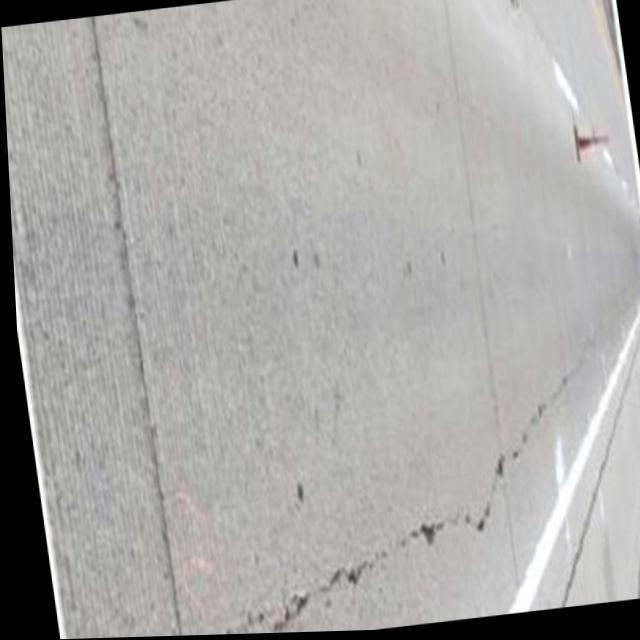Crack: (119, 344, 624, 638)
